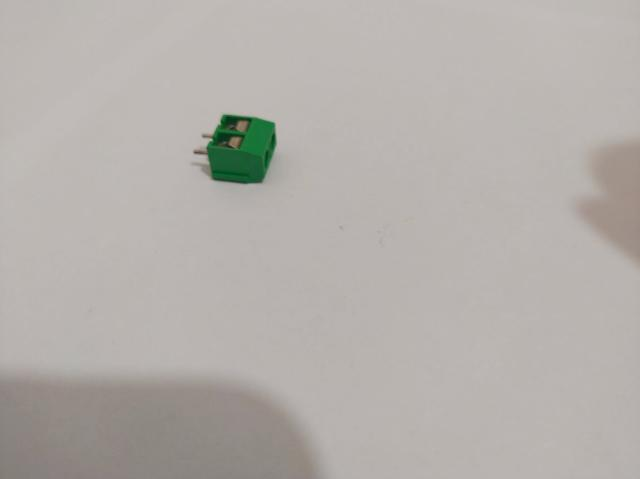terminal_block: (194, 115, 276, 184)
